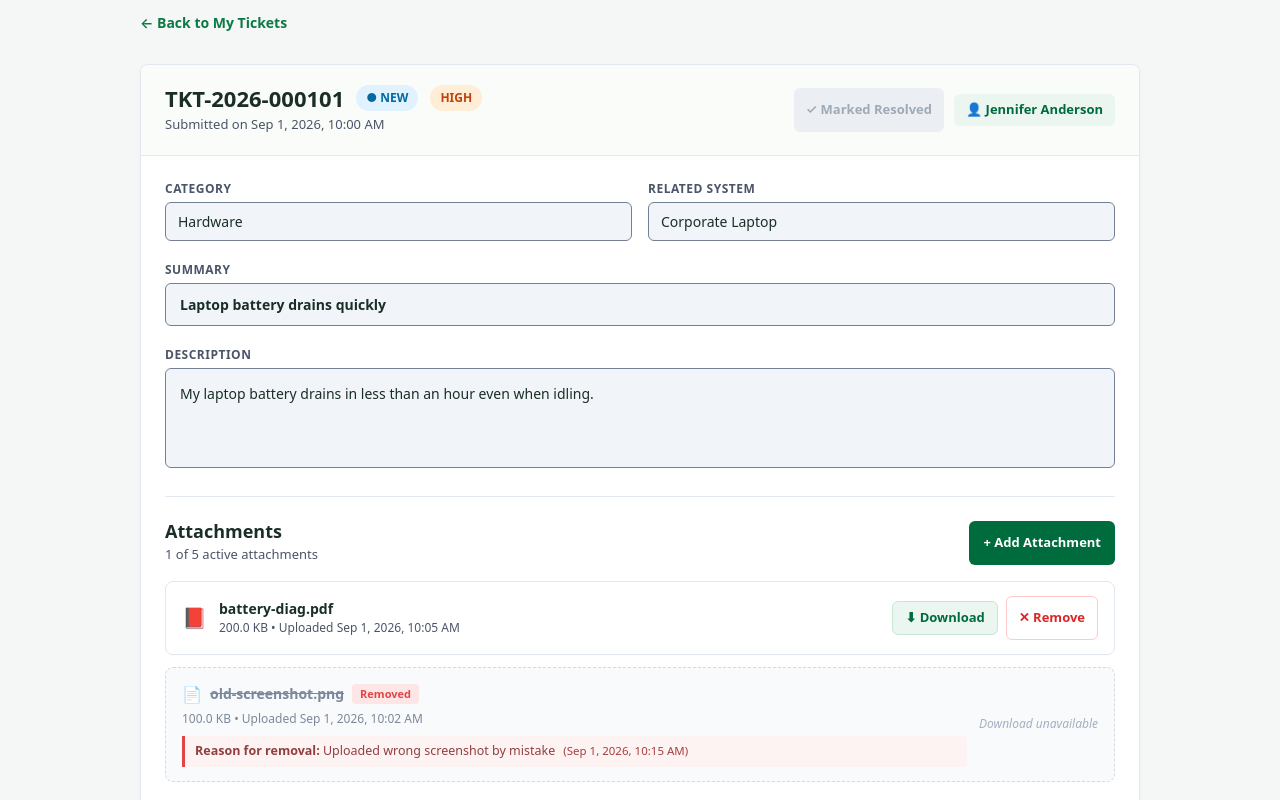
AttachmentSection Component (Lab 2) › UI-06 / AC-07: successfully submits soft removal with valid reason and updates attachment card
Click the button with test id "btn-remove-11": point(1052, 618) [1006,596,1098,640]
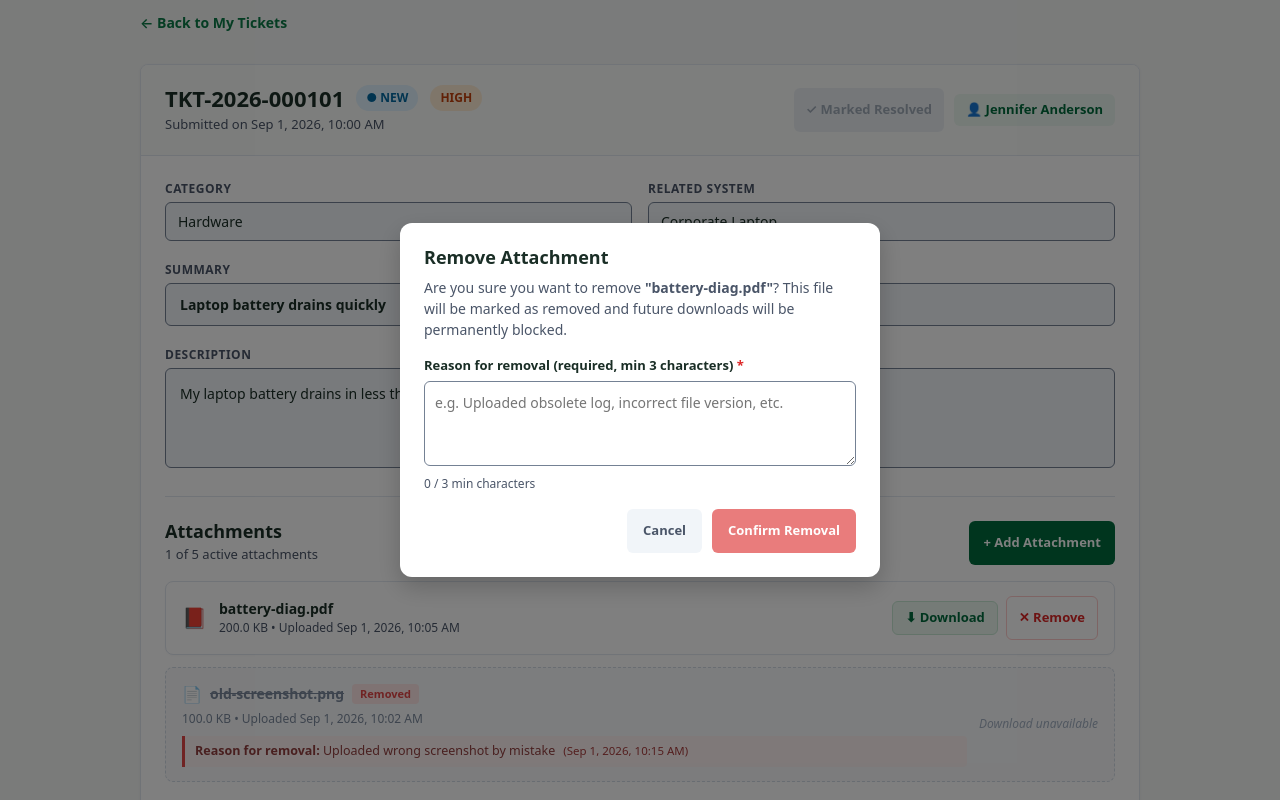
In the text box with test id "removal-reason-textarea": point(640, 424) [424,381,856,466], type "Document contained sensitive personal notes"
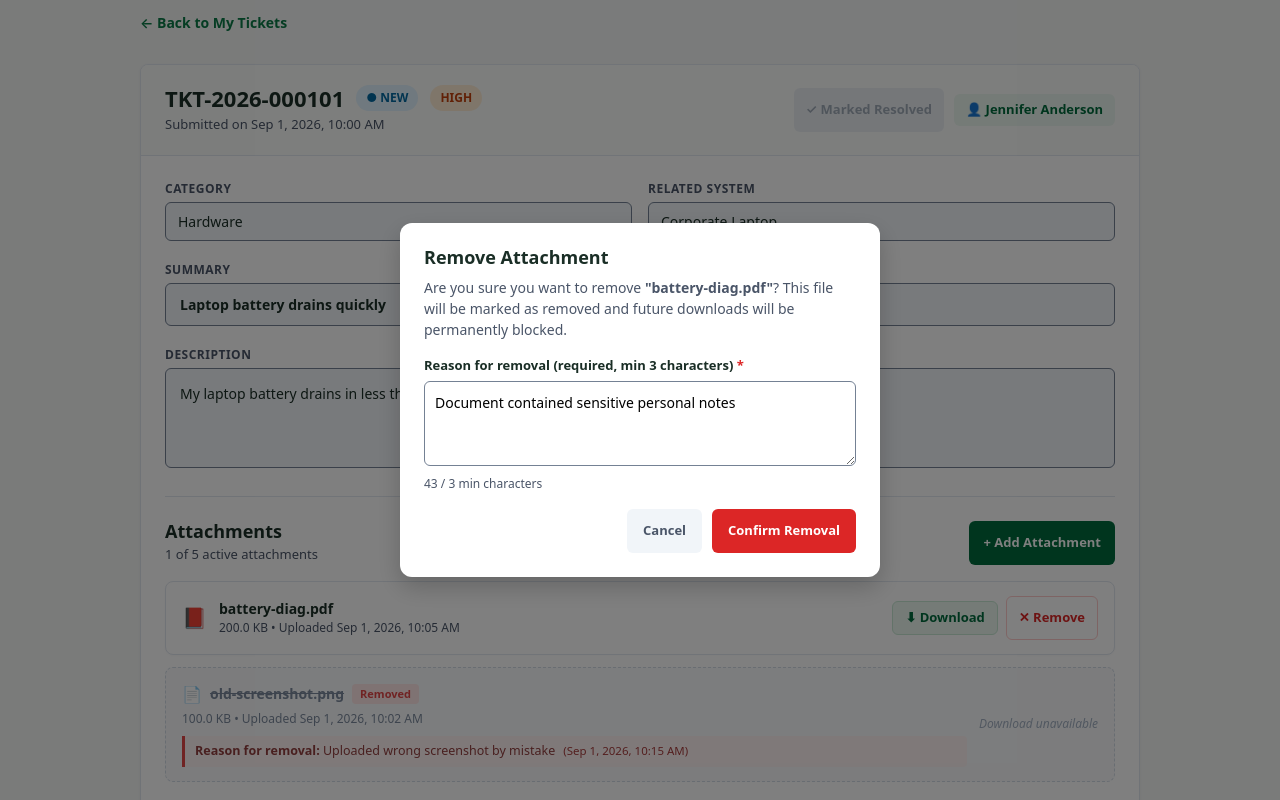
Click the button with test id "btn-confirm-removal": point(784, 531) [712,509,856,553]
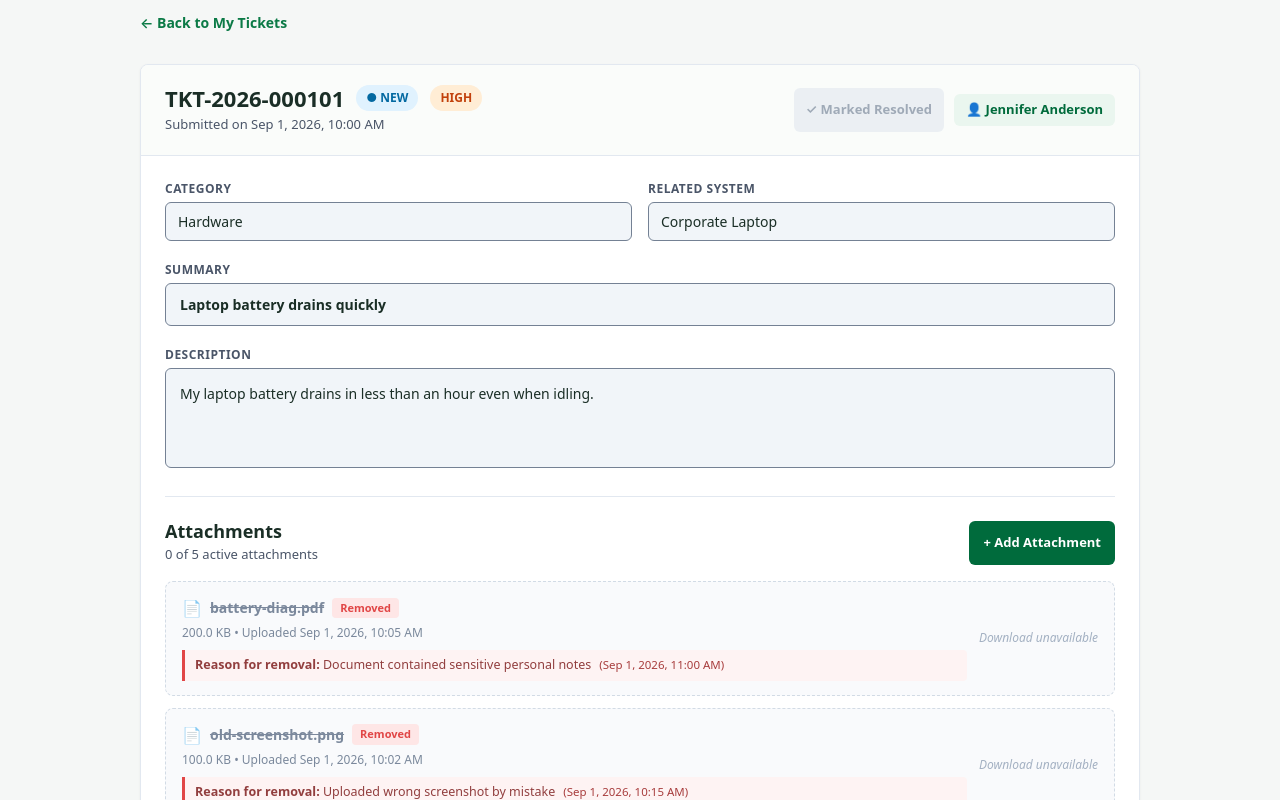
Expected: the element with test id "soft-remove-modal" is gone
Expected: the element with test id "attachment-removed-11" is shown, [165,581,1115,696]
Expected: the text "Document contained sensitive personal notes" is shown, [323,656,591,673]
